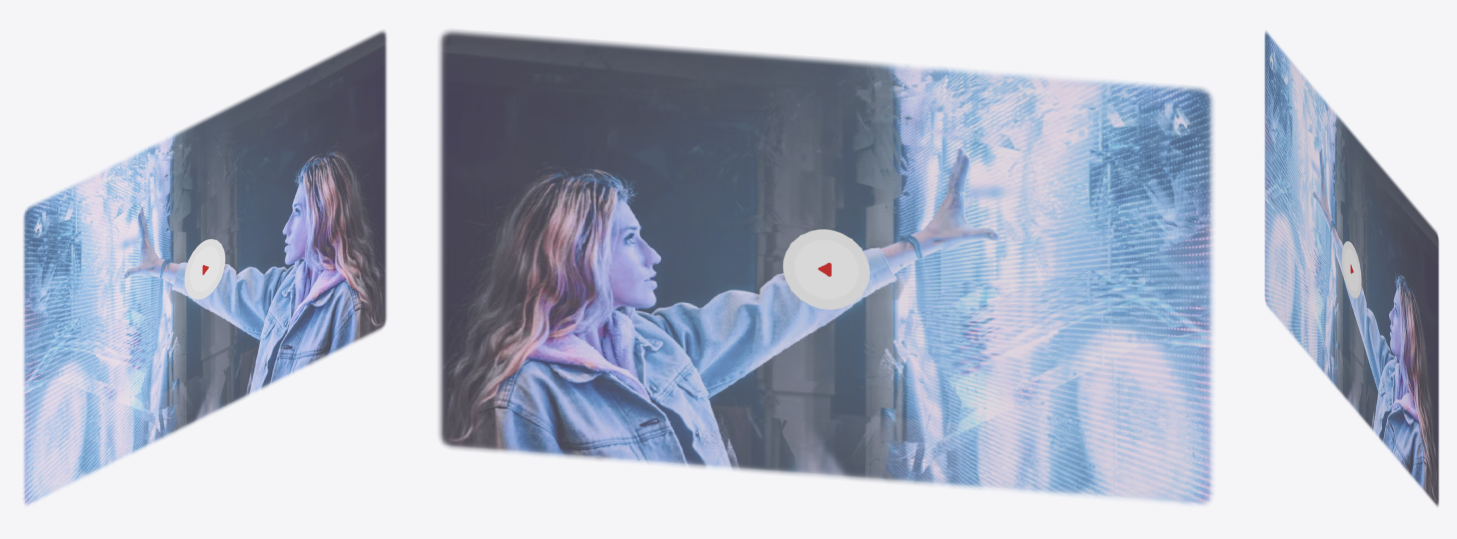
File: Showreel.glb
The picture shows the model from 3 angles, left to right: view 1: azimuth 30°, elevation 25°; view 2: azimuth 150°, elevation 25°; view 3: azimuth 270°, elevation 25°; orthographic projection. The views are drawn at different scales.
Visible parts, largest first — view 1: Plane.043; view 2: Plane.043; view 3: Plane.043.
Part boxes in pixels (box(x1,y1,x2,y2)): Plane.043: box(23, 31, 386, 505); Plane.043: box(439, 30, 1212, 505); Plane.043: box(1264, 31, 1438, 506).
Bounding box in the file's own units: 0.9264 × 0.5933 × 0.3323.
Materials: 1 (1 with a texture image).
